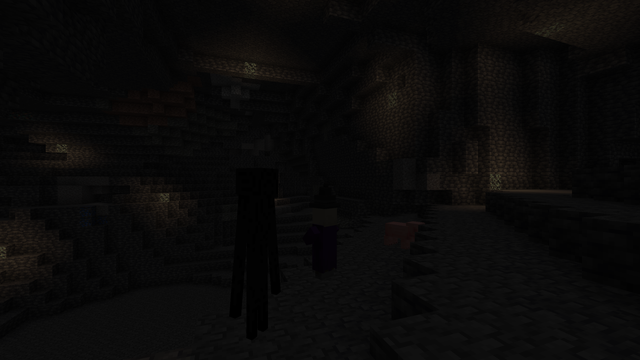cochons: (384, 220, 417, 248)
endermens: (238, 162, 277, 347)
sorcieres: (310, 203, 338, 281)
